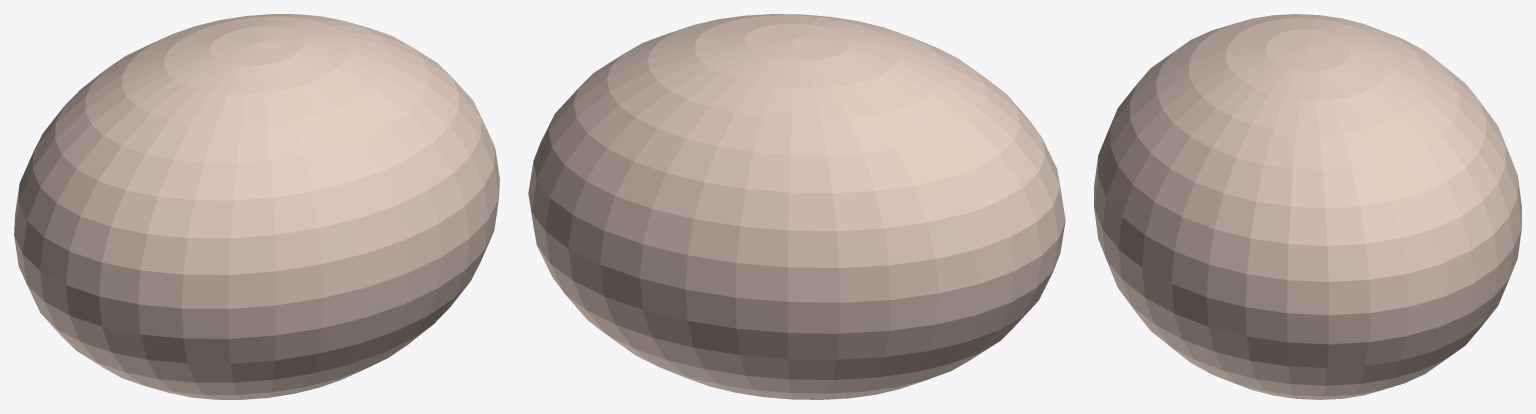
3 renders of one model, left to right at view 1: azimuth 30°, elevation 25°; view 2: azimuth 150°, elevation 25°; view 3: azimuth 270°, elevation 25°, orthographic. The views are drawn at different scales.
Visible parts, largest first — view 1: Sphere.018; view 2: Sphere.018; view 3: Sphere.018.
Boxes of the visible parts, x1,y1,x2,y2 form: Sphere.018: (14,14,499,399); Sphere.018: (528,14,1065,399); Sphere.018: (1094,14,1521,399).
Size of the model in its own units: 0.2701 by 0.1857 by 0.2254.
